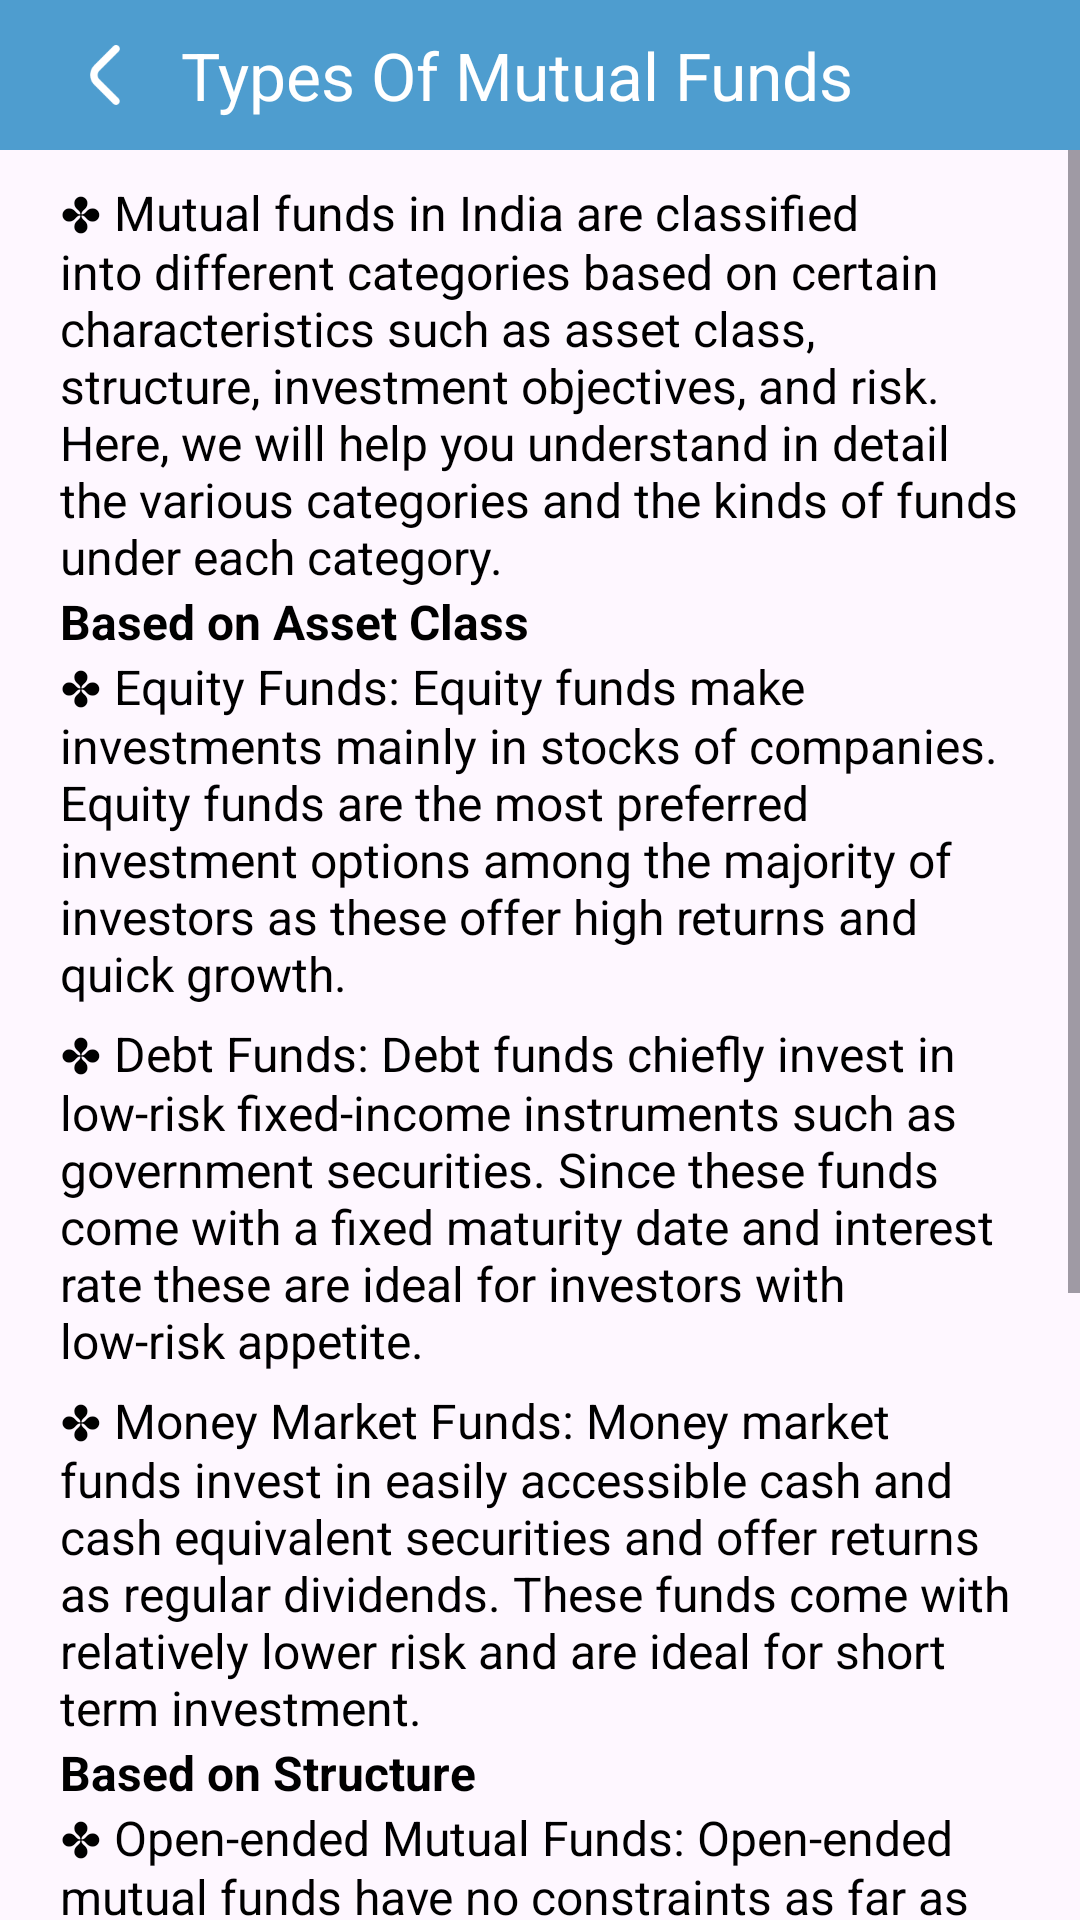

Locate icon controls on the screen. Image size 1080px×1920px, boxes as (x1, y1, x2, y2).
back: (90, 45, 120, 105)
